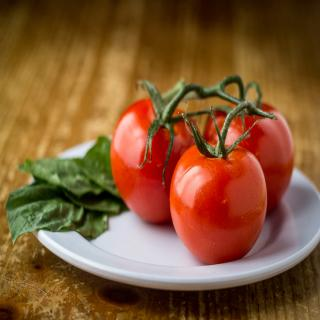tomato: (169, 102, 269, 267), (110, 97, 200, 225), (204, 96, 294, 210)
